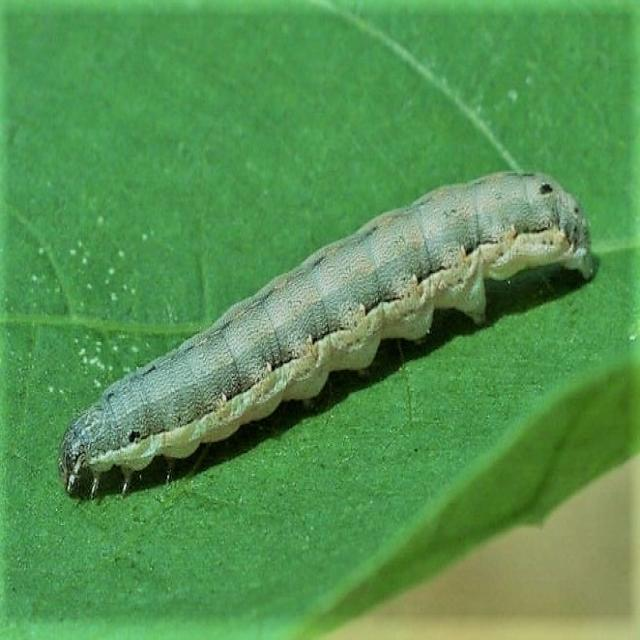armyworm: (56, 168, 599, 502)
